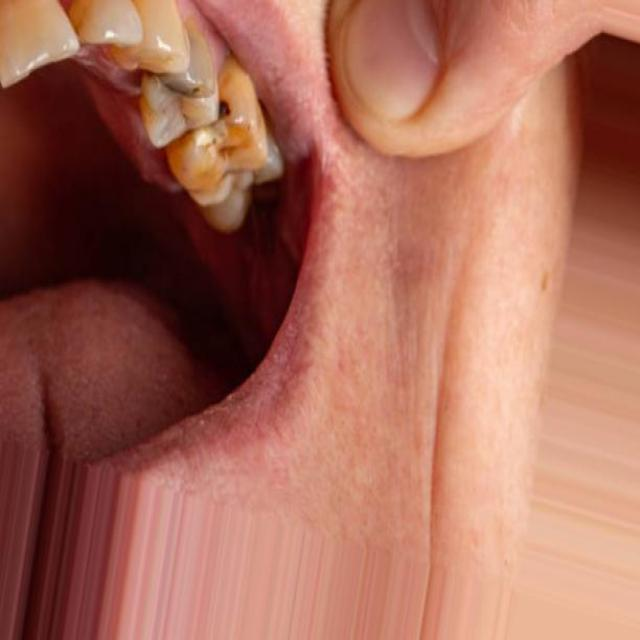caries: (202, 96, 259, 172), (154, 65, 203, 121)
